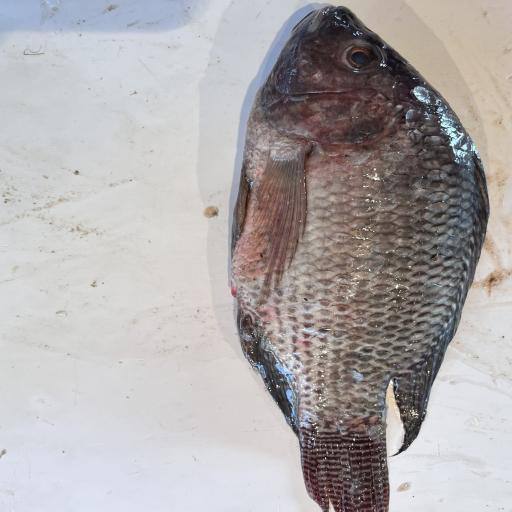Tilapia: (231, 5, 491, 512)
